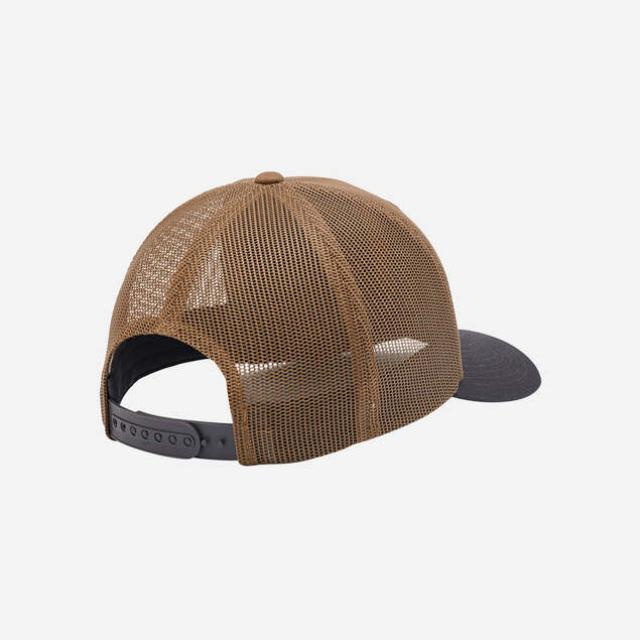Nonhelmet: (82, 159, 565, 470)
